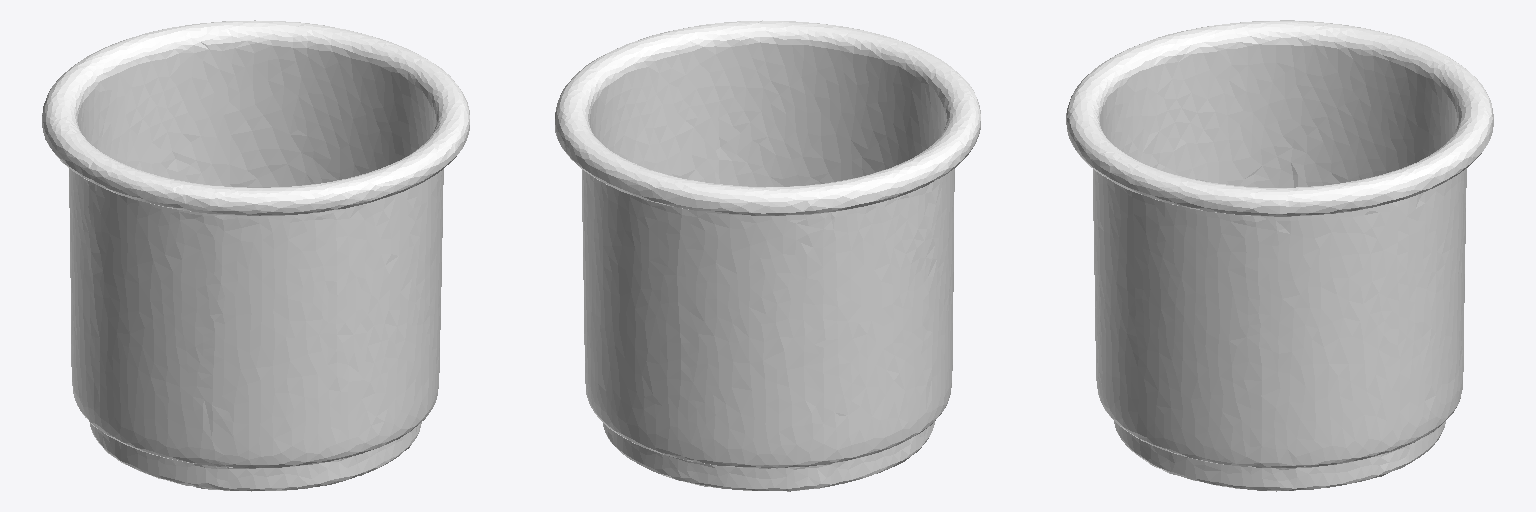
URDF robot description (072-e_toy_airplane):
<robot name="072-e_toy_airplane">
	<link name="_name">
		<visual>
			<origin xyz="0.15461052619458251 0.07752454040306525 -0.21859940254387186" rpy="0 0 0" />
			<geometry>
				<mesh filename="072-e_toy_airplane/google_16k/textured.obj" scale="10 10 10" />
			</geometry>
			<material name="texture">
				<color rgba="1.0 1.0 1.0 1.0" />
			</material>
		</visual>
		<collision>
			<geometry>
				<mesh filename="072-e_toy_airplane/google_16k/textured_vhacd.obj" scale="10 10 10" />
			</geometry>
		<origin xyz="0.15461052619458251 0.07752454040306525 -0.21859940254387186" rpy="0 0 0" /></collision>
		<inertial>
			<mass value="1.0" />
			<inertia ixx="1.0" ixy="0.0" ixz="0.0" iyy="1.0" iyz="0.0" izz="1.0" />
		</inertial>
	</link>
</robot>

--- What the picture shows (computed from the rendered views, not written in the file) ---
3 views of the same robot in one strip: view 1: azimuth 30°, elevation 25°; view 2: azimuth 150°, elevation 25°; view 3: azimuth 270°, elevation 25° (orthographic).
Model 072-e_toy_airplane with 1 links and 0 joints (none), rooted at _name, posed all joints at 0.
Links seen in each view (by area): view 1: _name; view 2: _name; view 3: _name.
Link boxes in pixels (<box>): _name: <box>42,20,469,491</box>; _name: <box>555,20,980,491</box>; _name: <box>1066,20,1493,491</box>.
Bounding box of the posed robot: 0.915 × 0.9162 × 0.7506 m (x, y, z).
1 mesh visuals loaded from 1 distinct referenced files (1 OBJ).